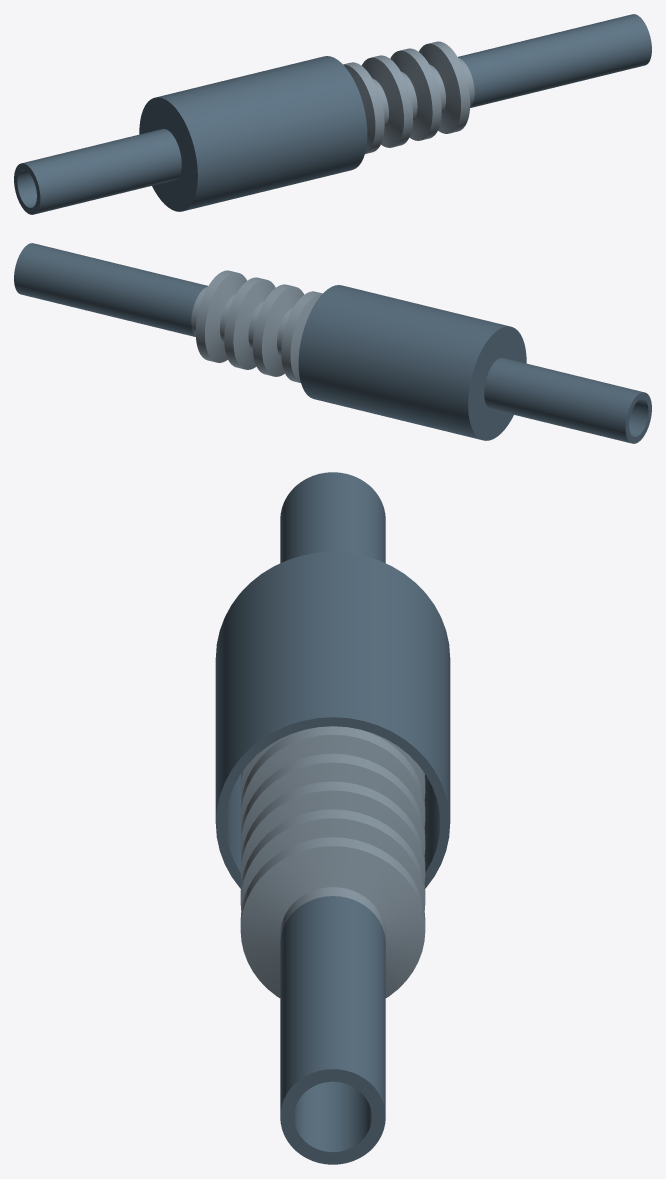
The model's file is silf-dn15-L285-D21_3-k-o32.glb.
3 renders of one model, top to bottom at view 1: azimuth 30°, elevation 25°; view 2: azimuth 150°, elevation 25°; view 3: azimuth 270°, elevation 25°, orthographic. The views are drawn at different scales.
Visible parts, largest first — view 1: osnovanie_kozhuh_1, prokladka_silfon_1, patrubok_2, patrubok_1; view 2: osnovanie_kozhuh_1, prokladka_silfon_1, patrubok_2, patrubok_1; view 3: osnovanie_kozhuh_1, prokladka_silfon_1, patrubok_2, patrubok_1.
Boxes of the visible parts, x1,y1,x2,y2 form: osnovanie_kozhuh_1: (139, 56, 367, 211); prokladka_silfon_1: (343, 41, 474, 153); patrubok_2: (458, 14, 651, 107); patrubok_1: (14, 129, 181, 214); osnovanie_kozhuh_1: (298, 285, 526, 440); prokladka_silfon_1: (191, 270, 322, 382); patrubok_2: (14, 243, 207, 336); patrubok_1: (484, 358, 651, 443); osnovanie_kozhuh_1: (215, 552, 450, 888); prokladka_silfon_1: (240, 726, 425, 997); patrubok_2: (280, 896, 385, 1164); patrubok_1: (280, 472, 385, 563).
Size of the model in its own units: 285 by 47.3 by 47.3.
